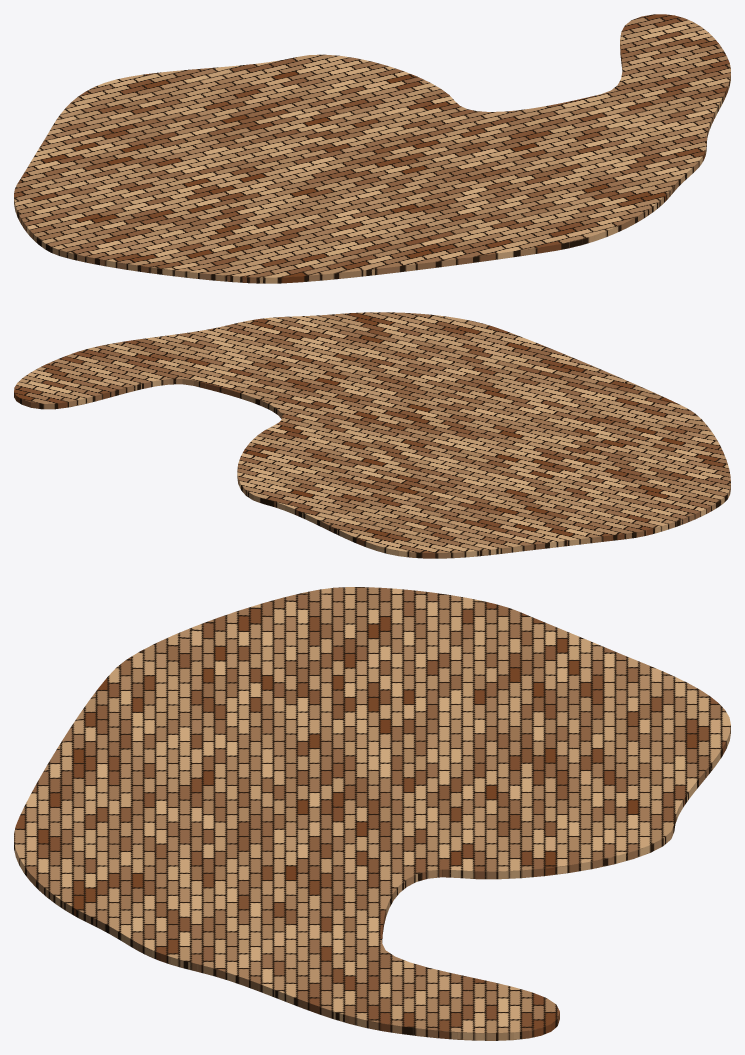
The model's file is unc-brickfloor.glb.
3 views of the same model, one above another, from view 1: azimuth 30°, elevation 25°; view 2: azimuth 150°, elevation 25°; view 3: azimuth 270°, elevation 25° (orthographic). The views are drawn at different scales.
Parts seen in each view (by area): view 1: BezierCurve; view 2: BezierCurve; view 3: BezierCurve.
Boxes of the visible parts, left/top/right/bottom form: BezierCurve: left=14, top=14, right=730, bottom=283; BezierCurve: left=14, top=312, right=730, bottom=558; BezierCurve: left=14, top=587, right=730, bottom=1040.
Bounding box in the file's own units: 14.62 × 0.1645 × 9.93.
Materials: 1 (1 with a texture image).
